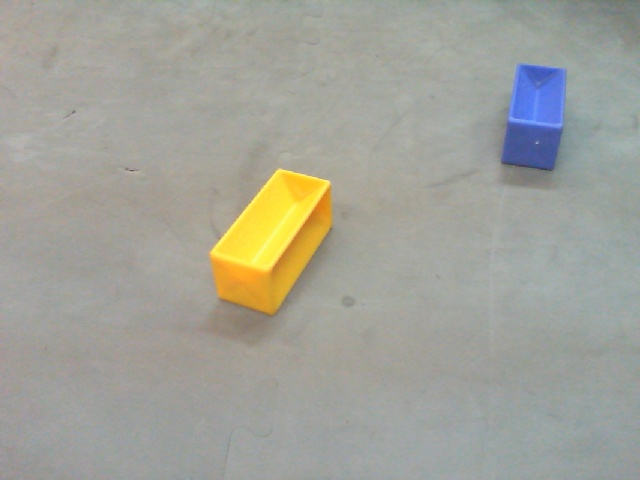BlueSample: (502, 64, 569, 174)
YellowSample: (206, 166, 335, 324)
